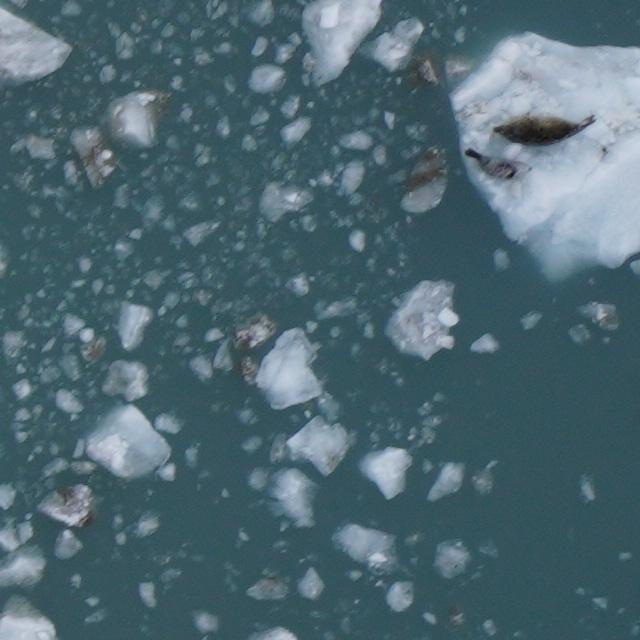seal: (488, 109, 602, 150), (461, 145, 537, 185)
